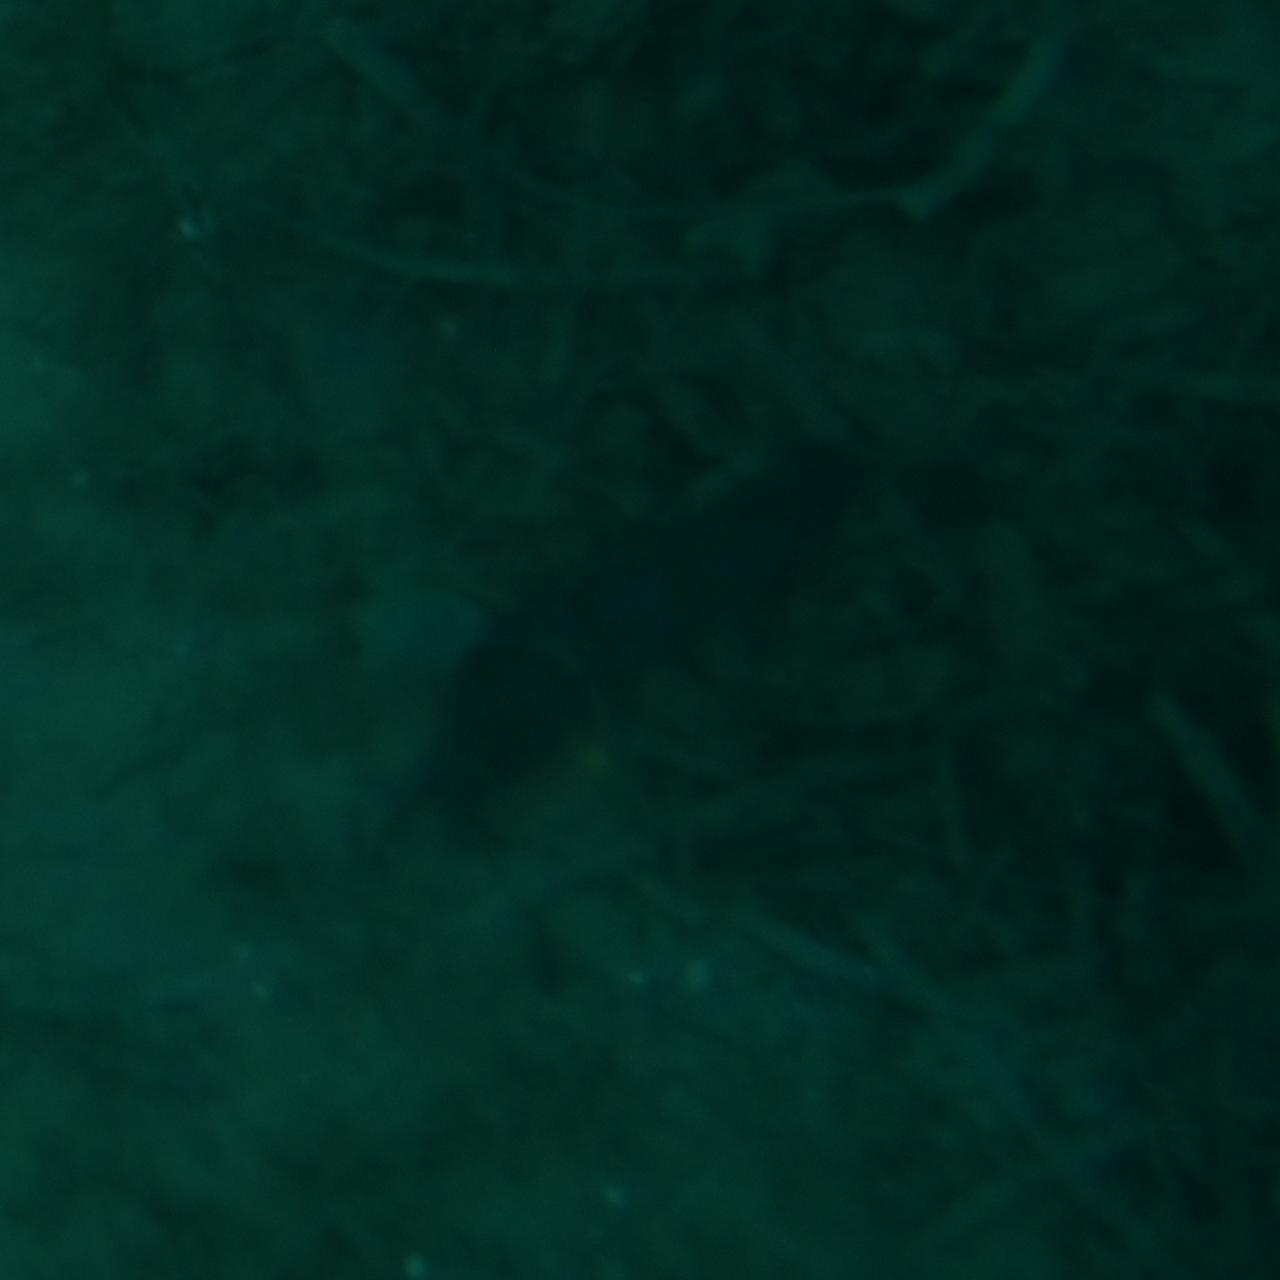Holothuria tubulosa: (411, 442, 869, 838)
